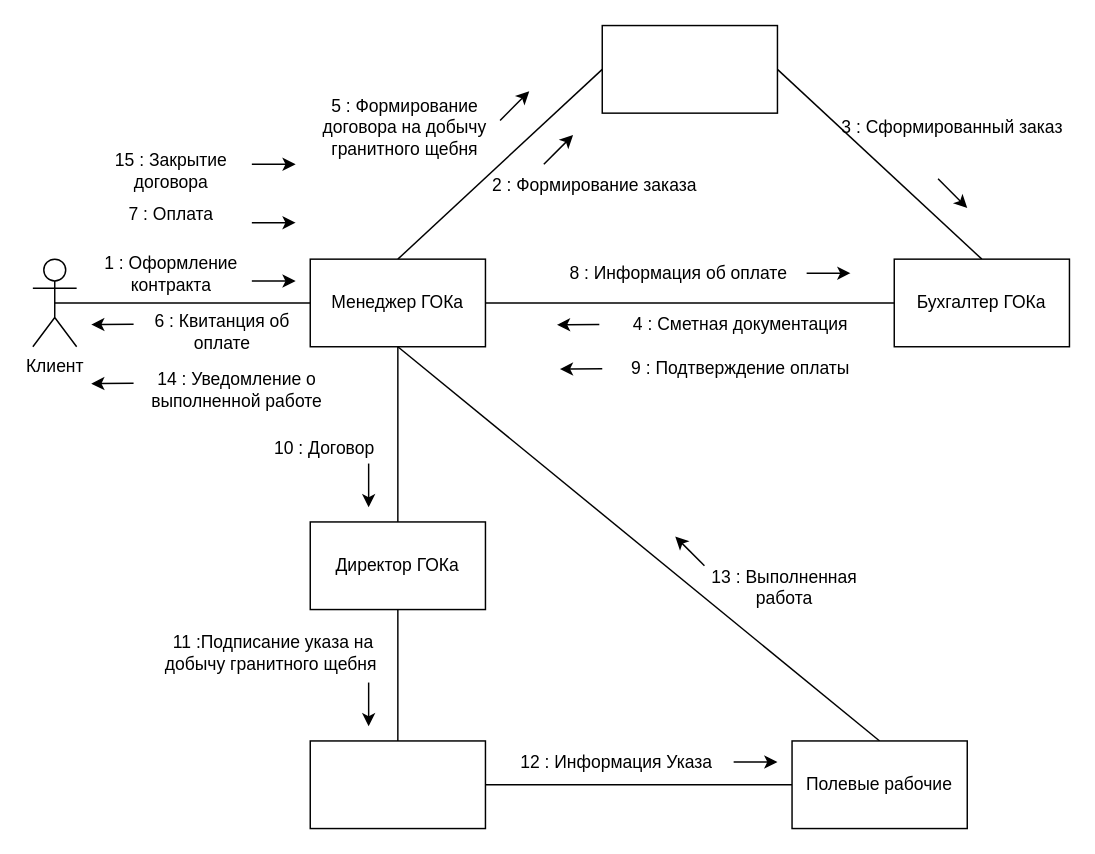
This 1095x854 diagram has some shape labels left out. The shapes that lost their labels are listed below. From the top down, each one's centre as x and y in pixels, then its label:
At point (689, 68): "Заказ/контракт".
At point (397, 784): "Указ на добычу".
